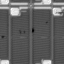dust: (31, 27, 35, 33), (18, 29, 21, 34), (23, 29, 26, 34), (45, 21, 49, 24), (1, 35, 5, 38)
